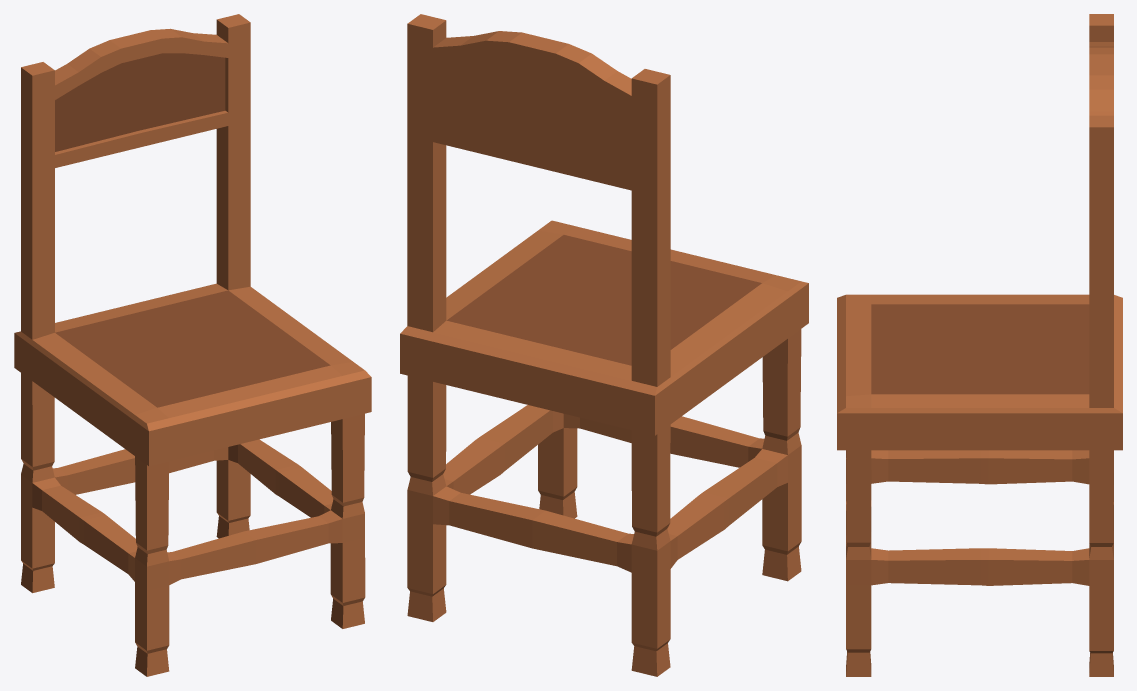
Rendered from chair.fbx.
The picture shows the model from 3 angles, left to right: view 1: azimuth 30°, elevation 25°; view 2: azimuth 150°, elevation 25°; view 3: azimuth 270°, elevation 25°; orthographic projection. The views are drawn at different scales.
Parts seen in each view (by area): view 1: Cube.001; view 2: Cube.001; view 3: Cube.001.
Part boxes in pixels (box(x1,y1,x2,y2)): Cube.001: box(14, 14, 371, 676); Cube.001: box(400, 14, 808, 676); Cube.001: box(837, 14, 1122, 676).
Bounding box in the file's own units: 327 × 733 × 342.
